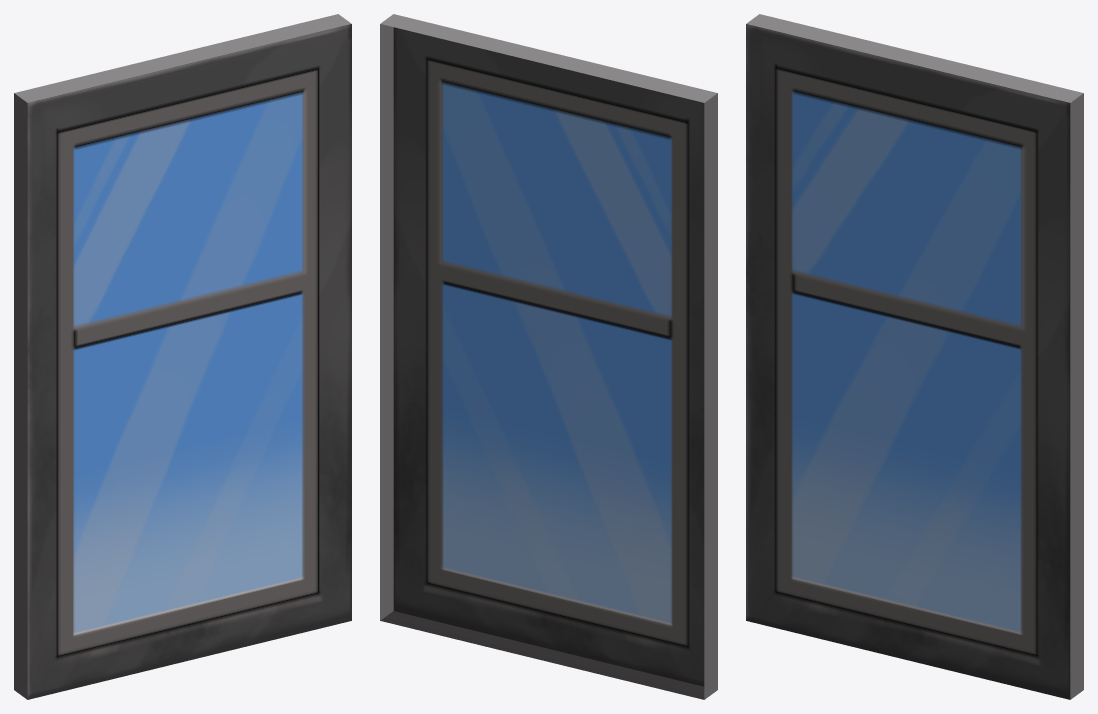
Rendered from Window_03.fbx.
3 views of the same model, side by side, from view 1: azimuth 30°, elevation 25°; view 2: azimuth 150°, elevation 25°; view 3: azimuth 330°, elevation 25° (orthographic).
Parts seen in each view (by area): view 1: Window_03; view 2: Window_03; view 3: Window_03.
Part boxes in pixels (x1=…): Window_03: x1=14, y1=14, x2=351, y2=699; Window_03: x1=380, y1=14, x2=717, y2=699; Window_03: x1=746, y1=14, x2=1083, y2=699.
Size of the model in its own units: 104 by 183 by 7.47.
